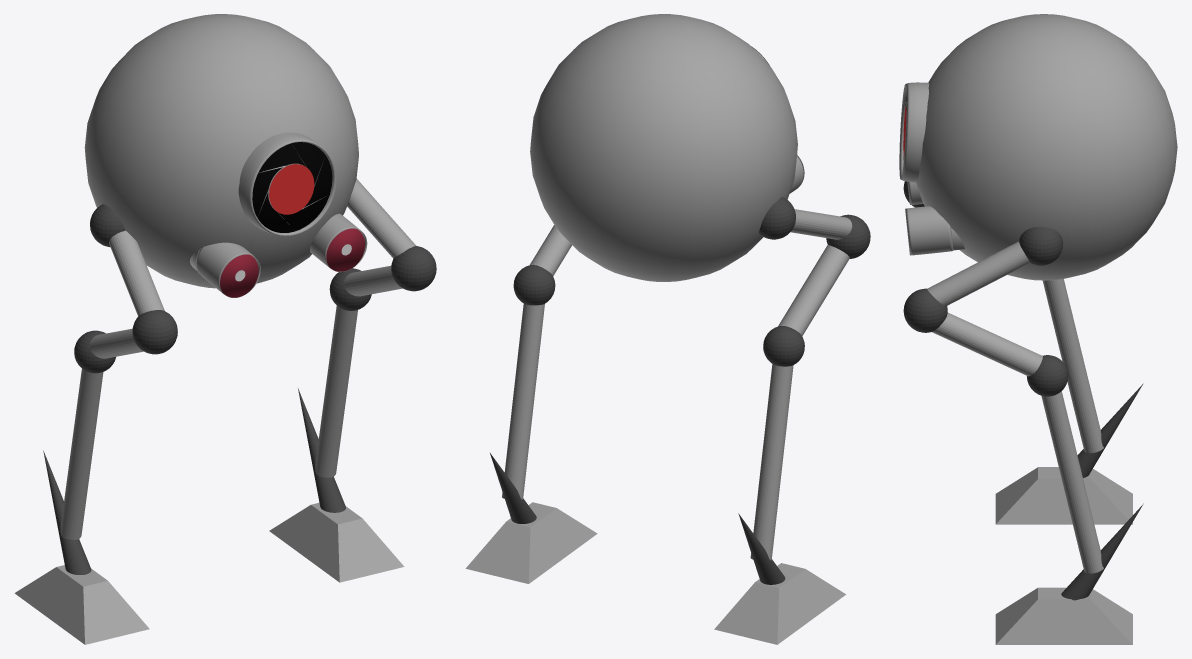
File: unite_combat.fbx
3 renders of one model, left to right at view 1: azimuth 30°, elevation 25°; view 2: azimuth 150°, elevation 25°; view 3: azimuth 270°, elevation 25°, orthographic. The views are drawn at different scales.
Visible parts, largest first — view 1: Sphere; view 2: Sphere; view 3: Sphere.
Part boxes in pixels (x1,y1,x2,y2): Sphere: (14,14,436,644); Sphere: (465,14,870,644); Sphere: (899,14,1177,644).
Bounding box in the file's own units: 2.66 × 4.46 × 2.06.
